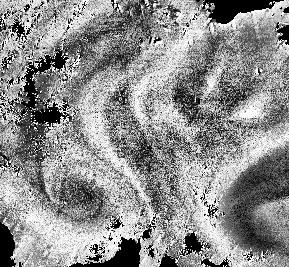CE: (21, 139, 142, 249)
